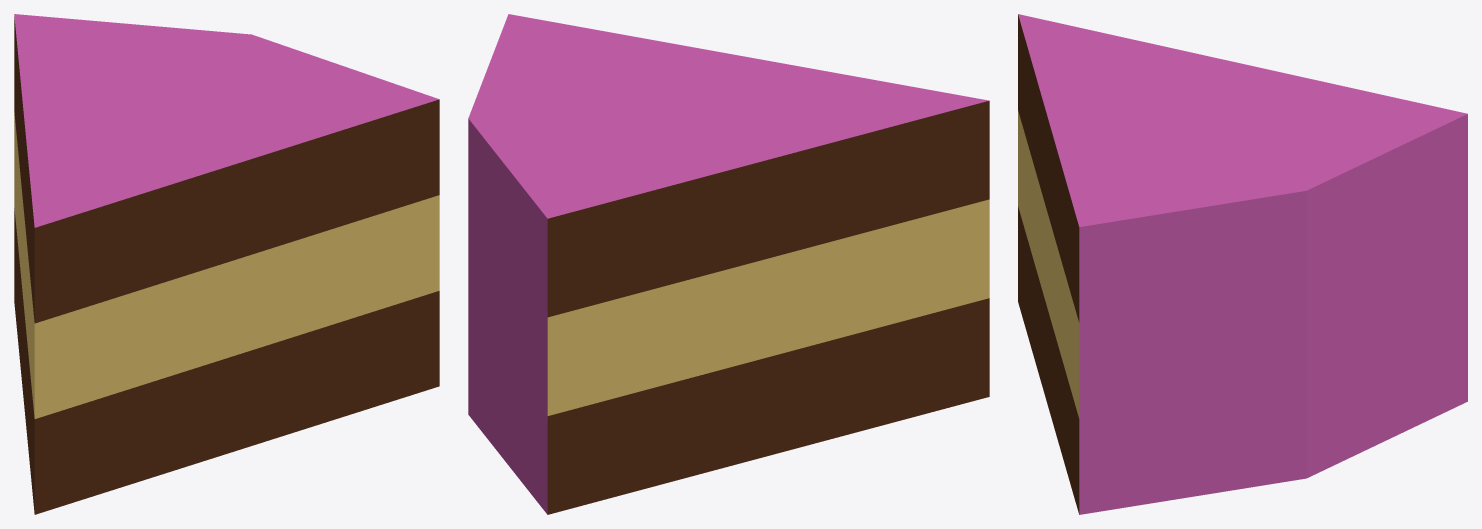
The model's file is LayerCake.fbx.
3 views of the same model, side by side, from view 1: azimuth 30°, elevation 25°; view 2: azimuth 150°, elevation 25°; view 3: azimuth 270°, elevation 25° (orthographic). The views are drawn at different scales.
Visible parts, largest first — view 1: Cylinder; view 2: Cylinder; view 3: Cylinder.
Boxes of the visible parts, bbox=[...] form: Cylinder: bbox=[14, 14, 439, 514]; Cylinder: bbox=[468, 14, 989, 514]; Cylinder: bbox=[1018, 14, 1467, 514].
Bounding box in the file's own units: 46.82 × 29.48 × 41.76.
